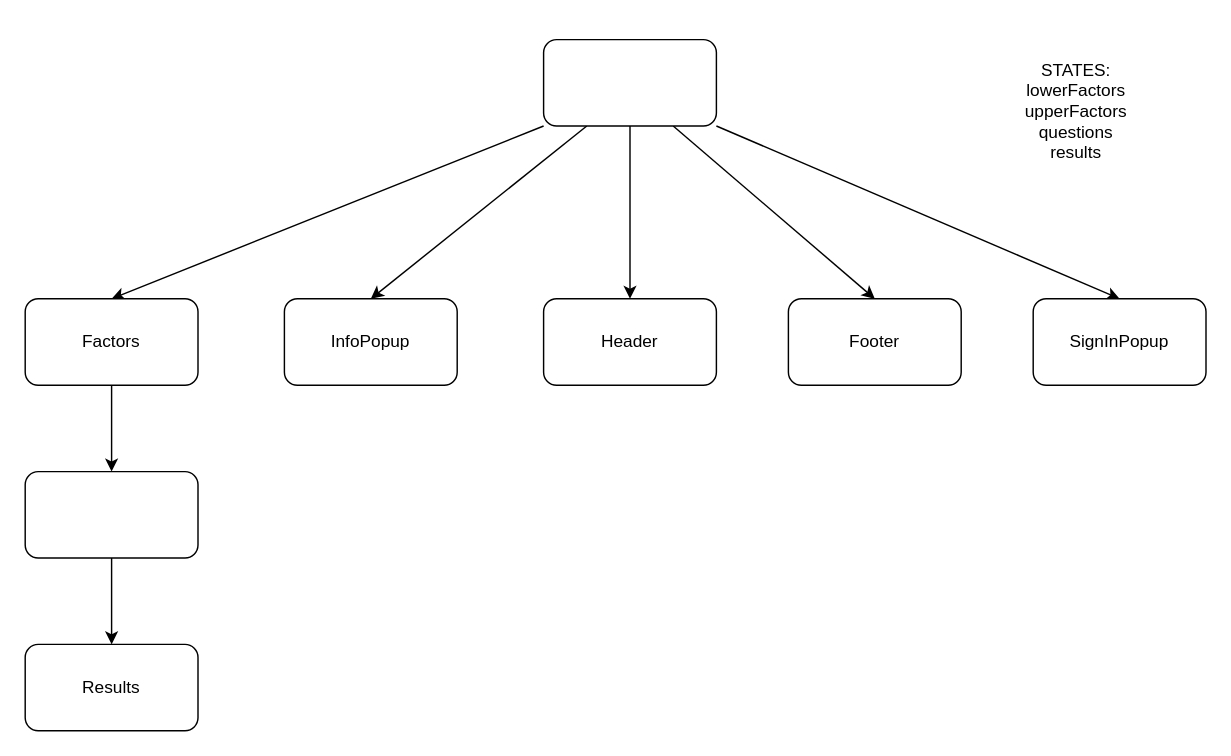
The diagram is 1231 pixels wide and 756 high, and some of its shapes have lost their labels. Here are the shapes that lost their labels. From the top down, the centre of each, then its label:
At (629,82): "App".
At (111,514): "Questions".
